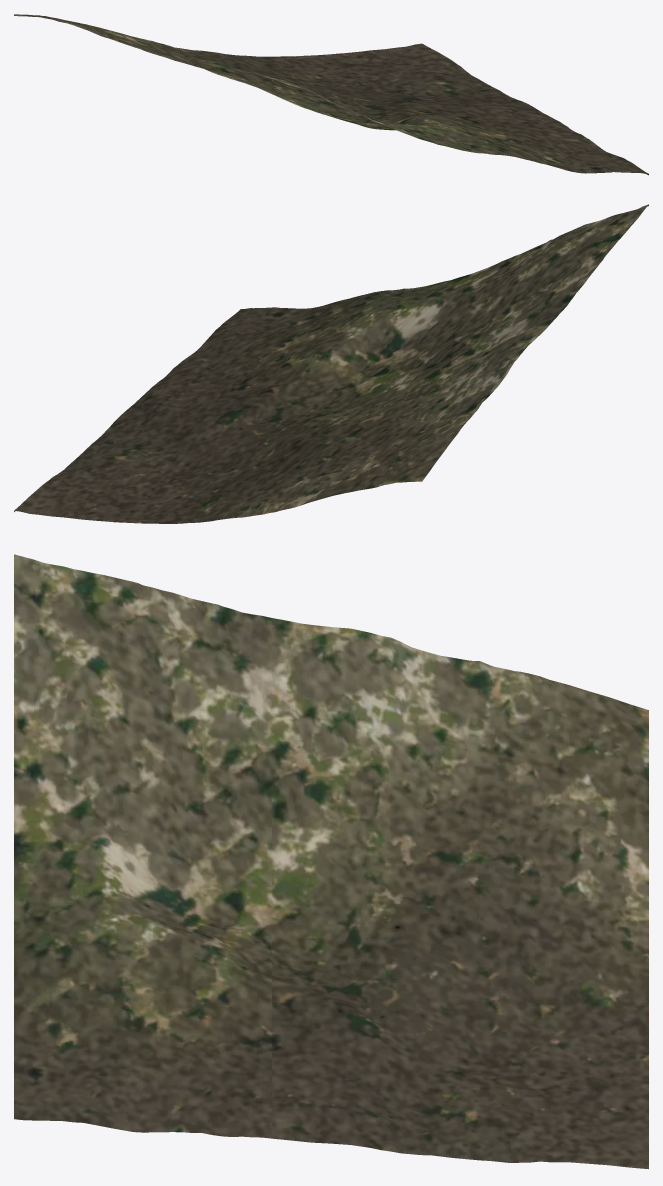
3 renders of one model, top to bottom at view 1: azimuth 30°, elevation 25°; view 2: azimuth 150°, elevation 25°; view 3: azimuth 270°, elevation 25°, orthographic. The views are drawn at different scales.
Size of the model in its own units: 250 by 142 by 241.
1 material, 1 textured.
